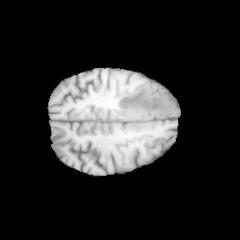glioma: (116, 89, 172, 119)
